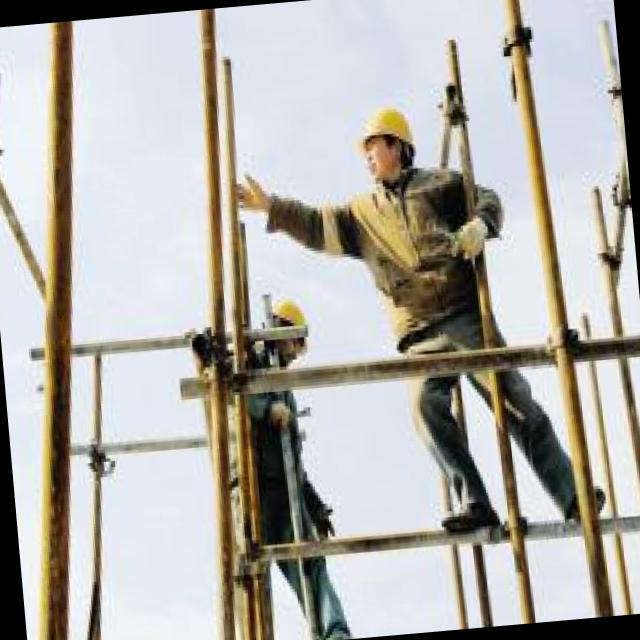helmet: (352, 89, 423, 194), (250, 284, 317, 371)
